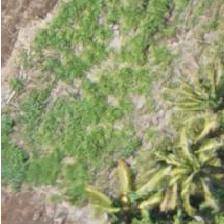coconut_tree: (127, 137, 217, 223), (153, 98, 223, 188), (69, 158, 159, 223), (158, 48, 223, 138)
